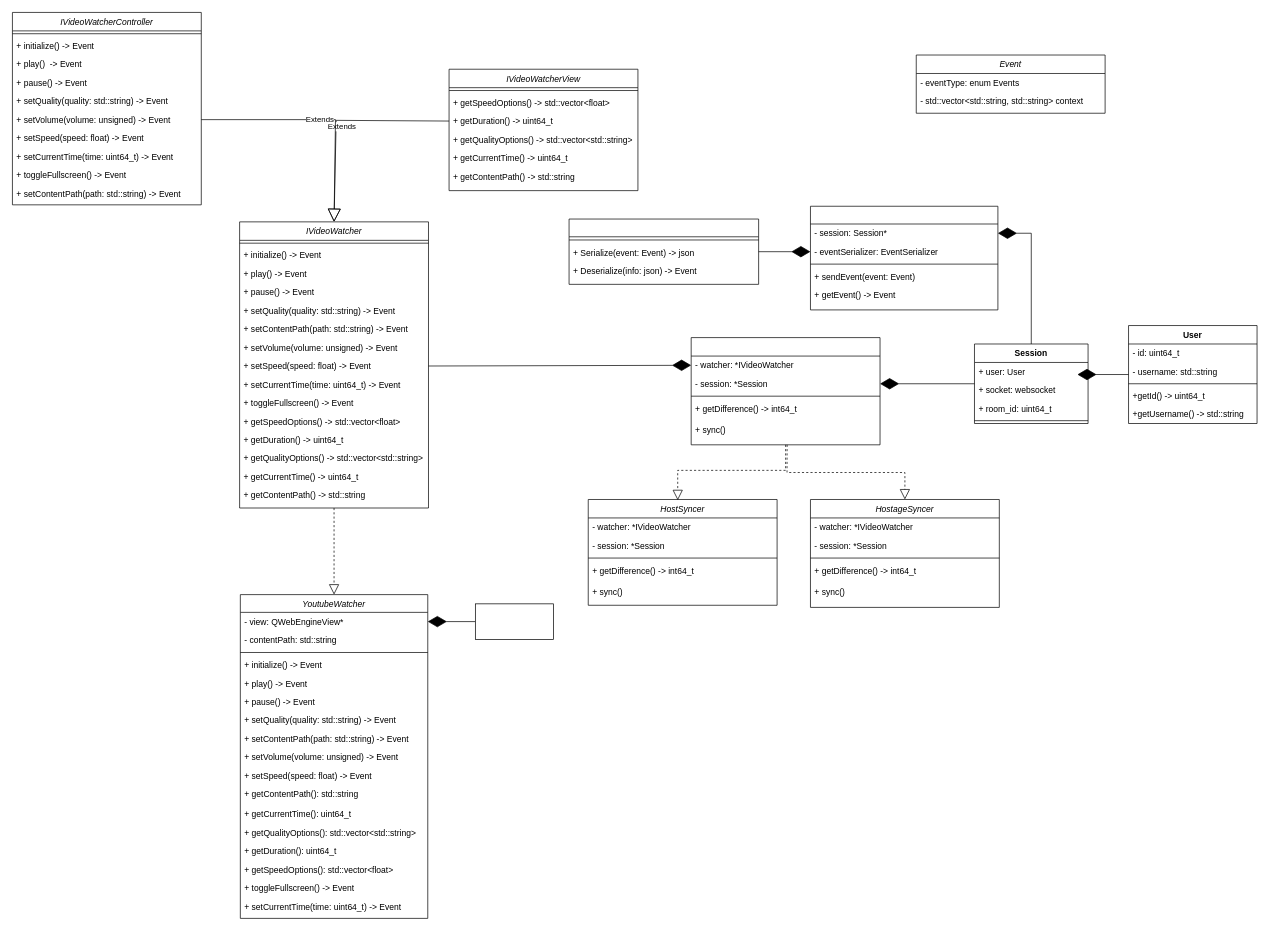
This 1269x931 diagram has some shape labels left out. Here are the shapes that lost their labels. From the top down, the box of each, then its label:
(568, 218, 759, 284): EventSerializer
(810, 206, 998, 310): EventHandler
(690, 337, 880, 445): ISyncer
(475, 603, 553, 639): QWebEngineView
